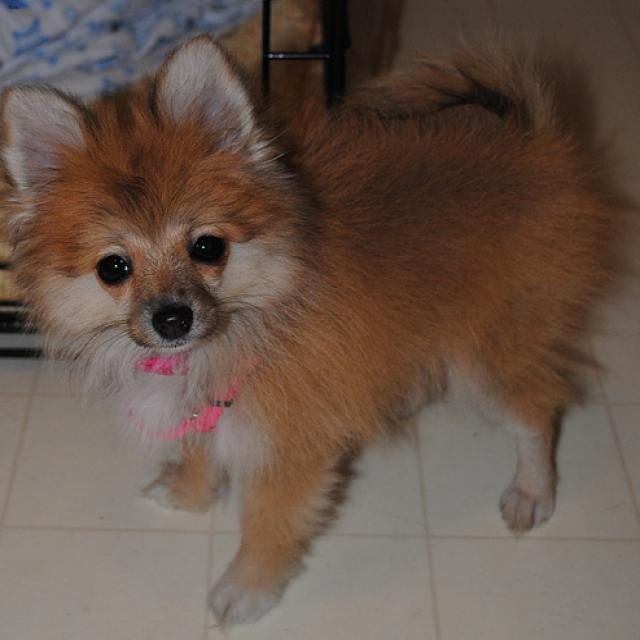dog-pomeranian: (1, 26, 622, 637)
